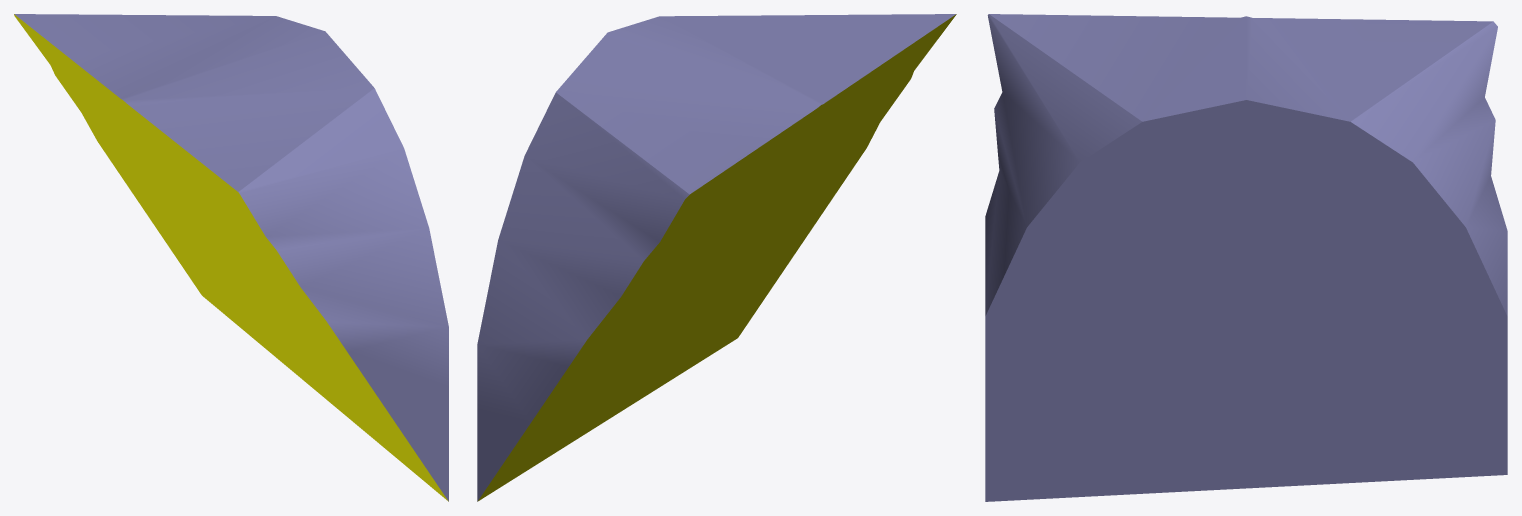
The model's file is CB1Shard7.fbx.
3 views of the same model, side by side, from view 1: azimuth 30°, elevation 25°; view 2: azimuth 150°, elevation 25°; view 3: azimuth 270°, elevation 25° (orthographic). The views are drawn at different scales.
Visible parts, largest first — view 1: shard13; view 2: shard13; view 3: shard13.
Part boxes in pixels (<box>): shard13: <box>14,14,448,501</box>; shard13: <box>477,14,956,501</box>; shard13: <box>985,14,1507,501</box>.
Size of the model in its own units: 0.0116 by 0.0202 by 0.0238.
2 materials, 1 textured.
